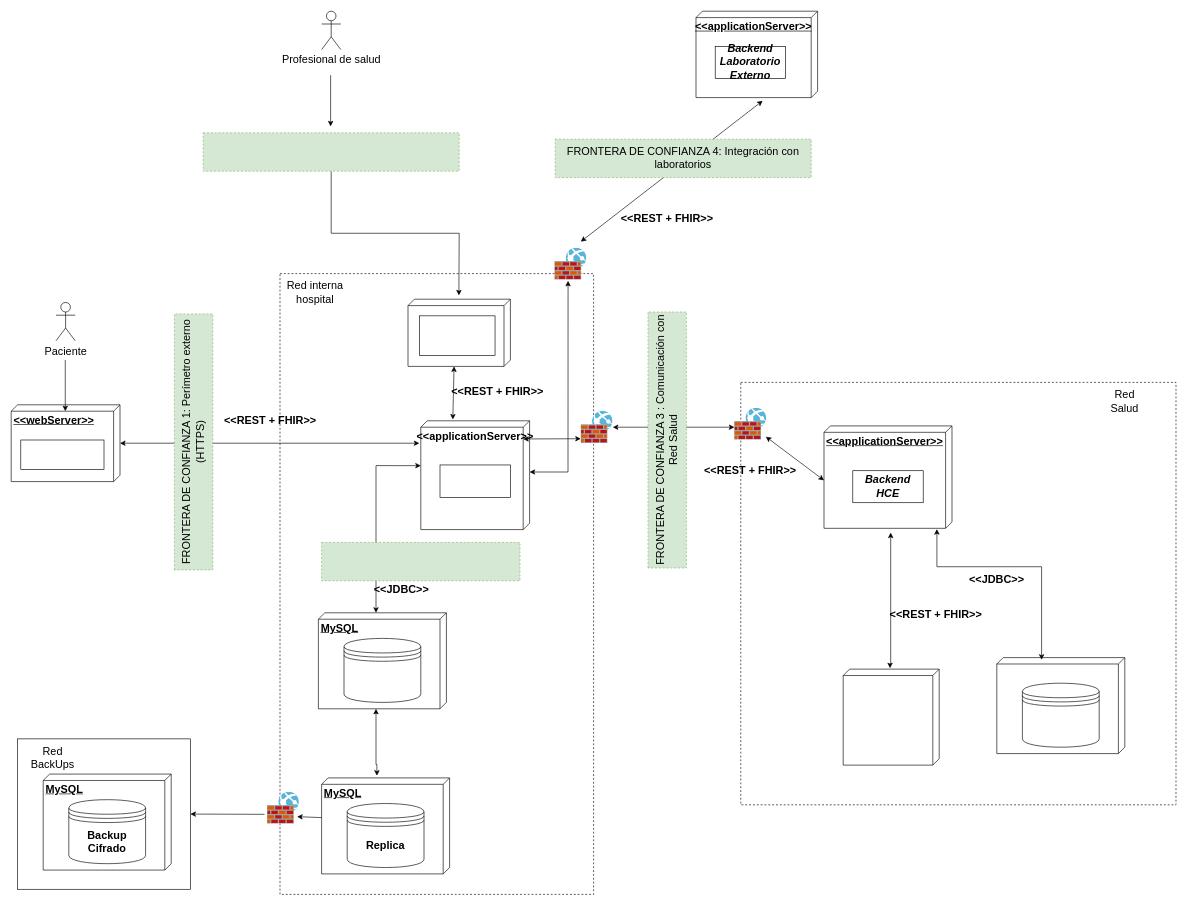
The diagram is 1187 pixels wide and 906 high, and some of its shapes have lost their labels. Here are the shapes that lost their labels. From the top down, the centre of each, then its label:
point (331, 151): FRONTERA DE CONFIANZA 1: VPN Hospital
point (457, 335): Frontend Web Profesionales de salud
point (62, 454): App React Native
point (474, 481): Backend Hospital
point (420, 561): FRONTERA DE CONFIANZA 2: Red Interna Segura
point (382, 670): Master
point (891, 716): Servidor PACS imágenes DICOM
point (1060, 715): <<database>> INUS
